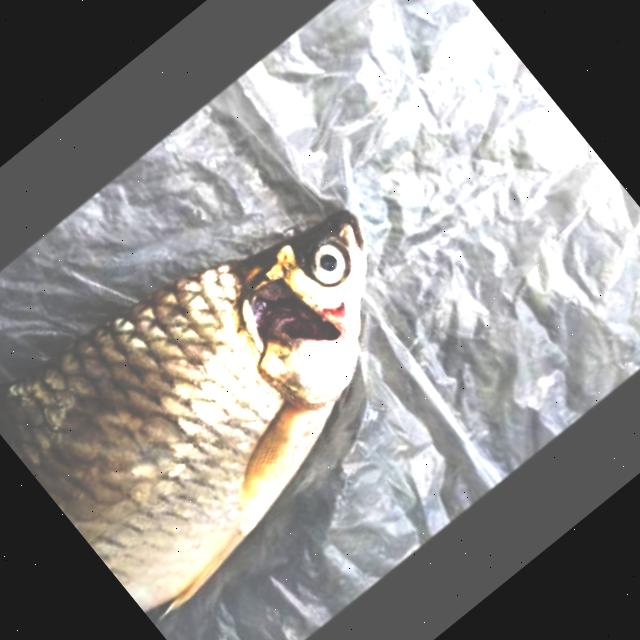Flavobacterium -Bacterial Gill Disease-: (0, 209, 369, 618), (0, 211, 365, 611)
